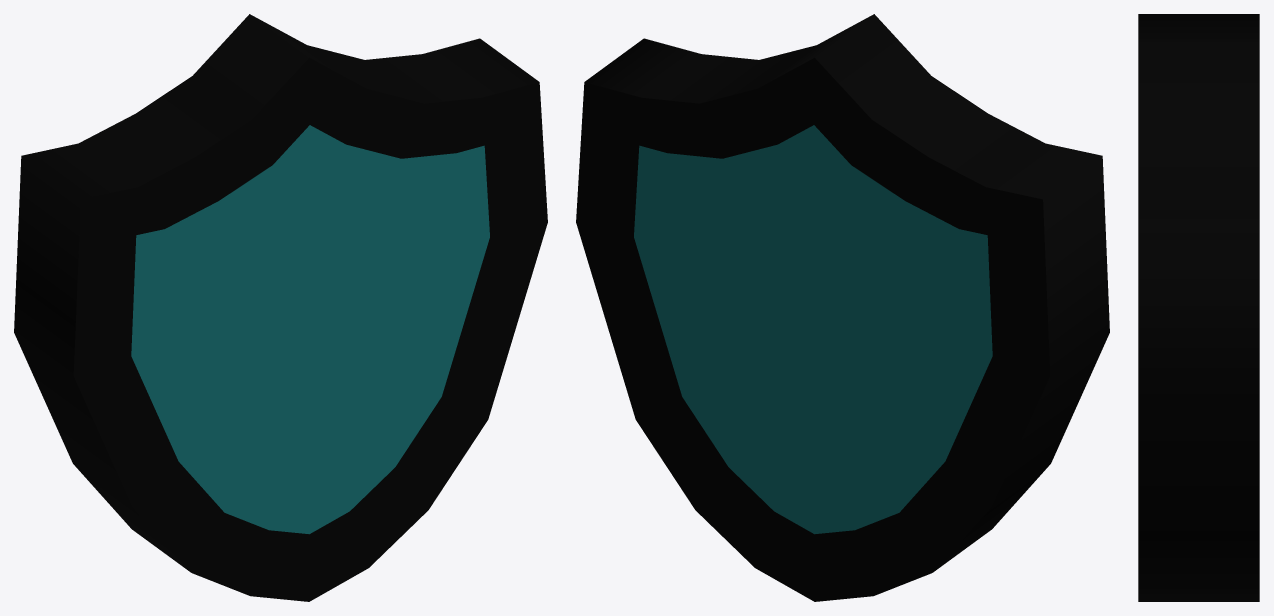
File: ShieldPowerUP.fbx
3 views of the same model, side by side, from view 1: azimuth 30°, elevation 25°; view 2: azimuth 150°, elevation 25°; view 3: azimuth 270°, elevation 25° (orthographic).
Parts seen in each view (by area): view 1: ShieldPowerUP; view 2: ShieldPowerUP; view 3: ShieldPowerUP.
Part boxes in pixels (x1,y1,x2,y2): ShieldPowerUP: [14, 14, 547, 601]; ShieldPowerUP: [576, 14, 1109, 601]; ShieldPowerUP: [1138, 14, 1259, 601].
Size of the model in its own units: 173 by 190 by 37.68.
